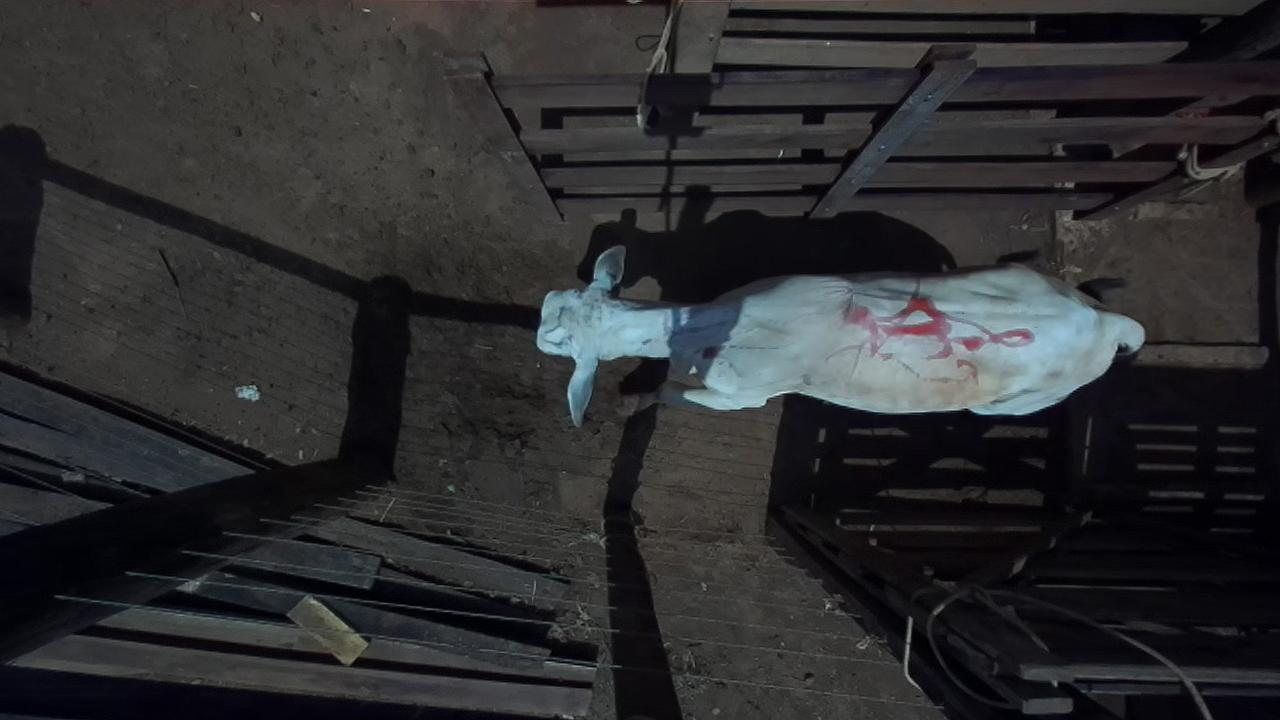cattle: (535, 242, 1146, 428)
